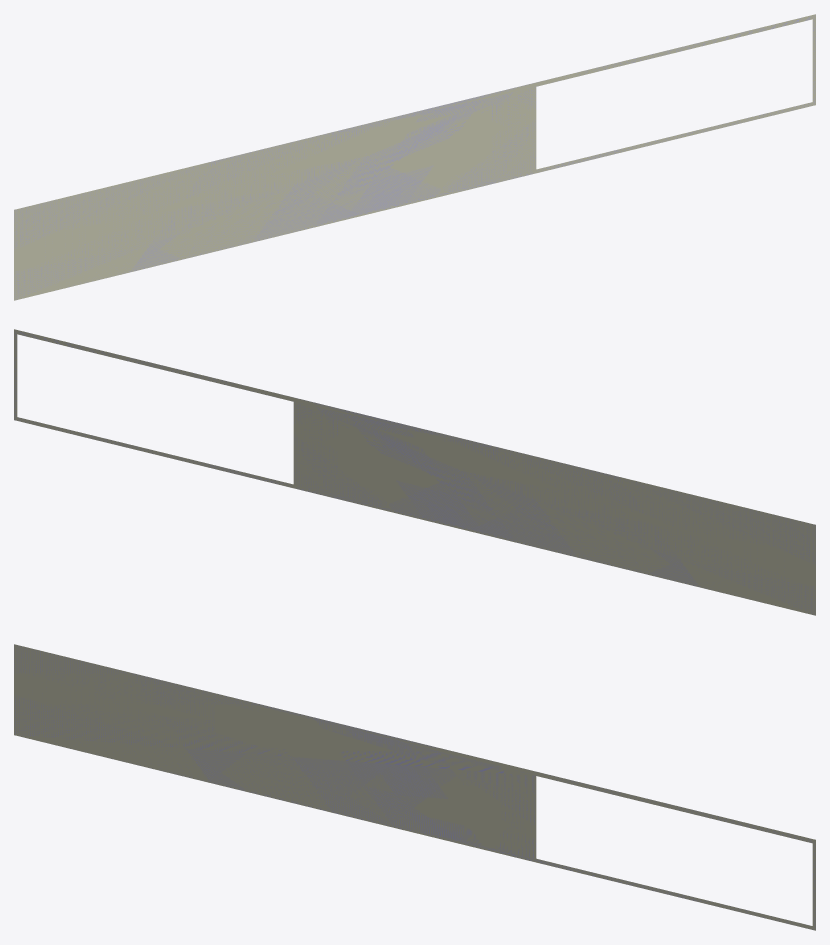
File: original-60.obj
The picture shows the model from 3 angles, top to bottom: view 1: azimuth 30°, elevation 25°; view 2: azimuth 150°, elevation 25°; view 3: azimuth 330°, elevation 25°; orthographic projection.
Visible parts, largest first — view 1: mesh20/mesh20-geometry/material_5/component_2#mesh20-geometry; view 2: mesh20/mesh20-geometry/material_5/component_2#mesh20-geometry; view 3: mesh20/mesh20-geometry/material_5/component_2#mesh20-geometry.
Boxes of the visible parts, x1=… form: mesh20/mesh20-geometry/material_5/component_2#mesh20-geometry: x1=14, y1=14, x2=815, y2=300; mesh20/mesh20-geometry/material_5/component_2#mesh20-geometry: x1=14, y1=329, x2=815, y2=615; mesh20/mesh20-geometry/material_5/component_2#mesh20-geometry: x1=14, y1=644, x2=815, y2=930.
Bounding box in the file's own units: 0.41 × 0.0444 × 0.
